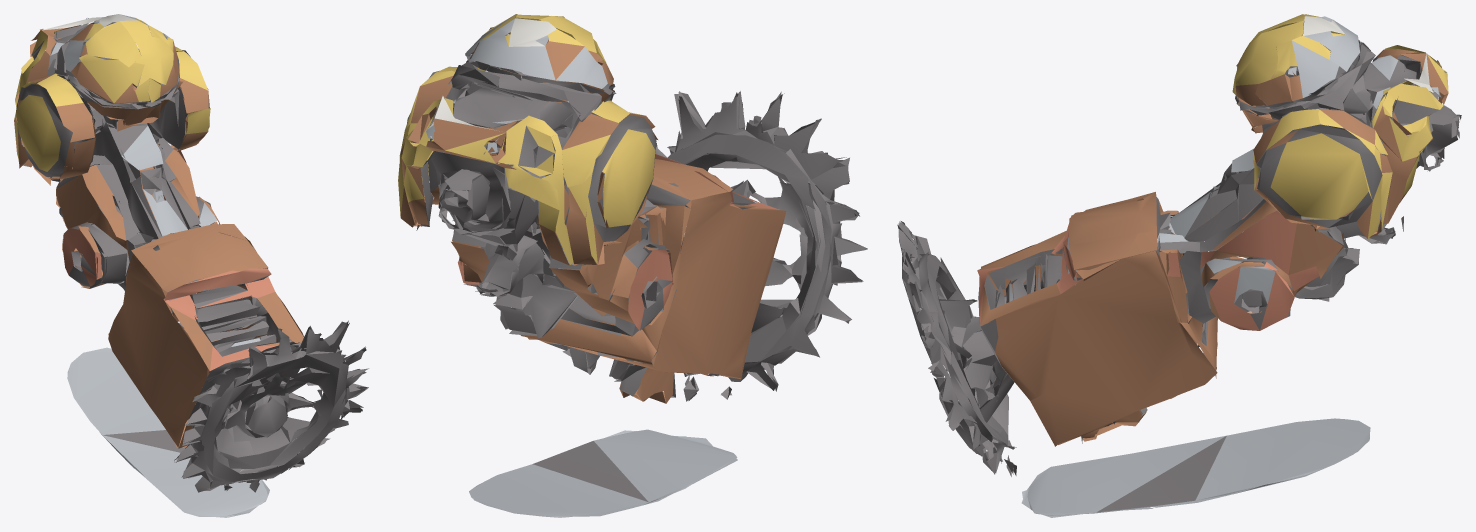
File: ar_saw.glb
The picture shows the model from 3 angles, left to right: view 1: azimuth 30°, elevation 25°; view 2: azimuth 150°, elevation 25°; view 3: azimuth 270°, elevation 25°; orthographic projection. The views are drawn at different scales.
Parts seen in each view (by area): view 1: ar_saw; view 2: ar_saw; view 3: ar_saw.
Boxes of the visible parts, left/top/right/bottom form: ar_saw: left=14, top=14, right=369, bottom=517; ar_saw: left=398, top=14, right=867, bottom=517; ar_saw: left=897, top=14, right=1461, bottom=517.
Size of the model in its own units: 0.1894 by 0.3929 by 0.42.
